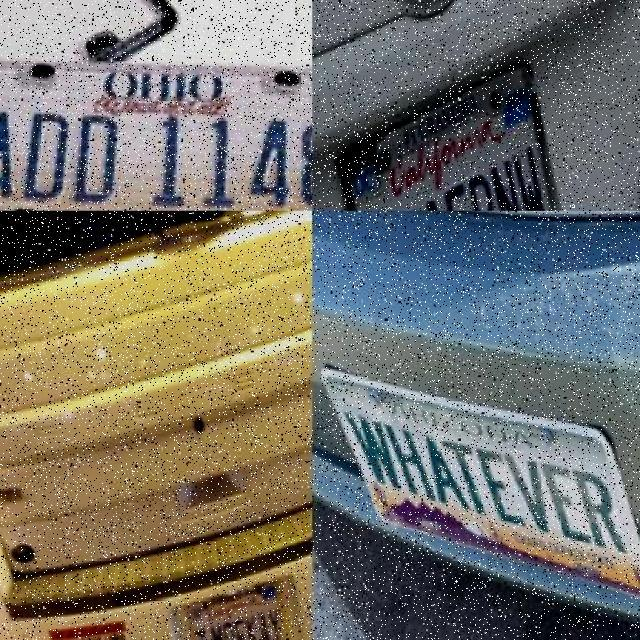LicensePlate: (320, 367, 639, 592), (0, 24, 312, 210), (340, 55, 565, 210), (190, 578, 299, 640)
